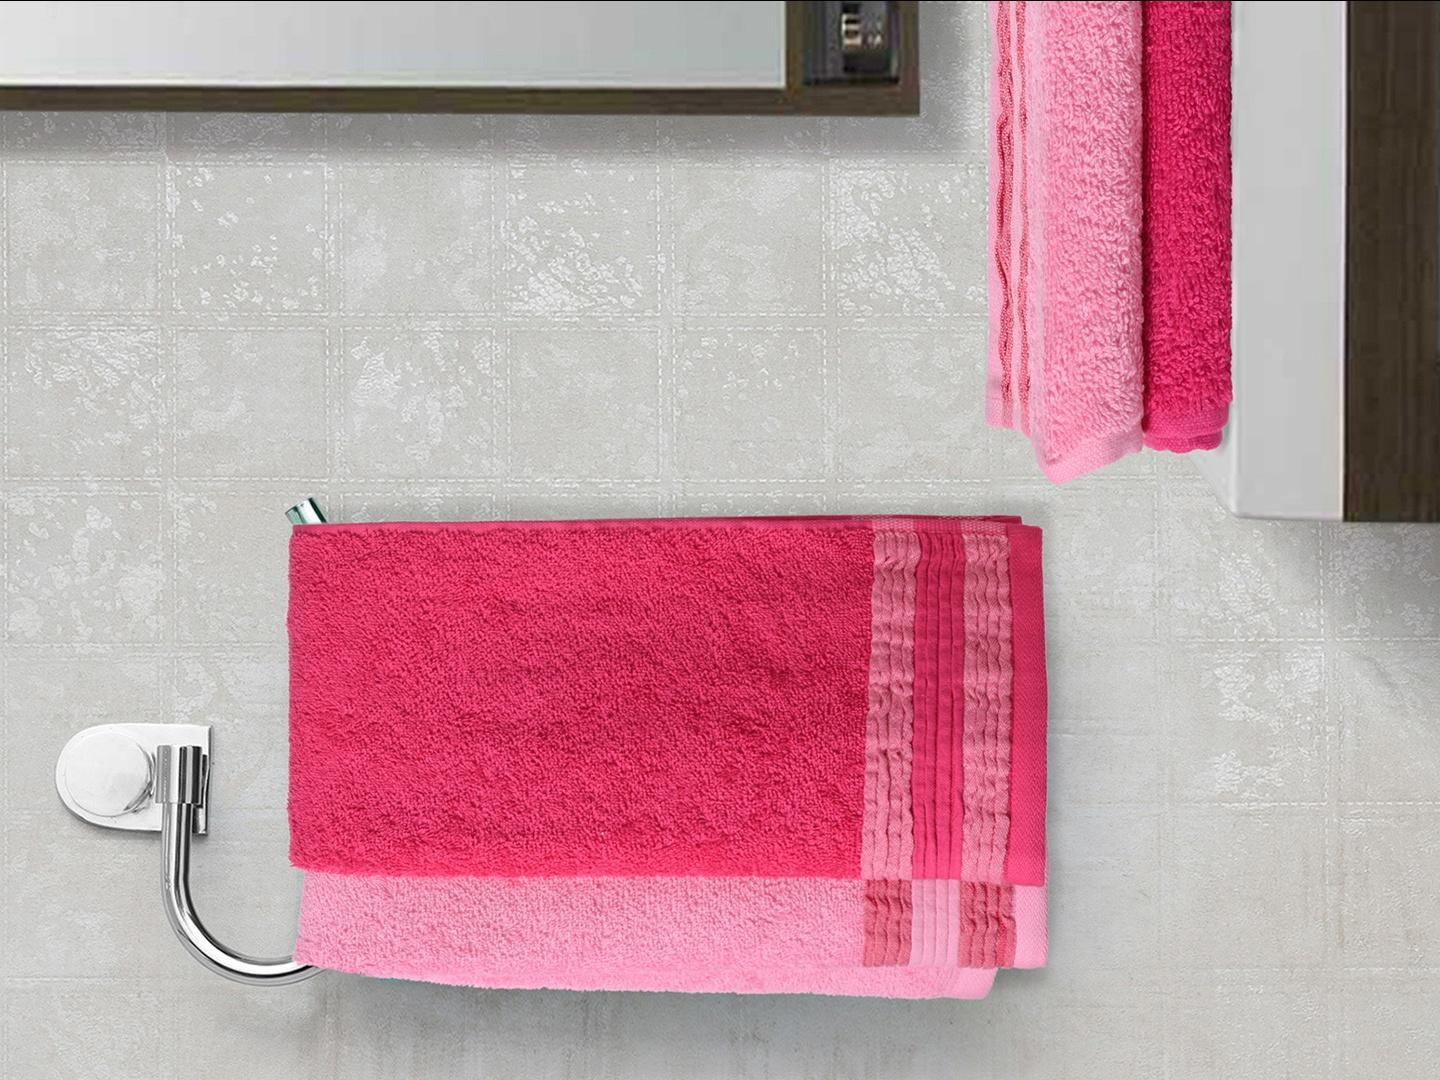towel: (257, 503, 1093, 1035)
